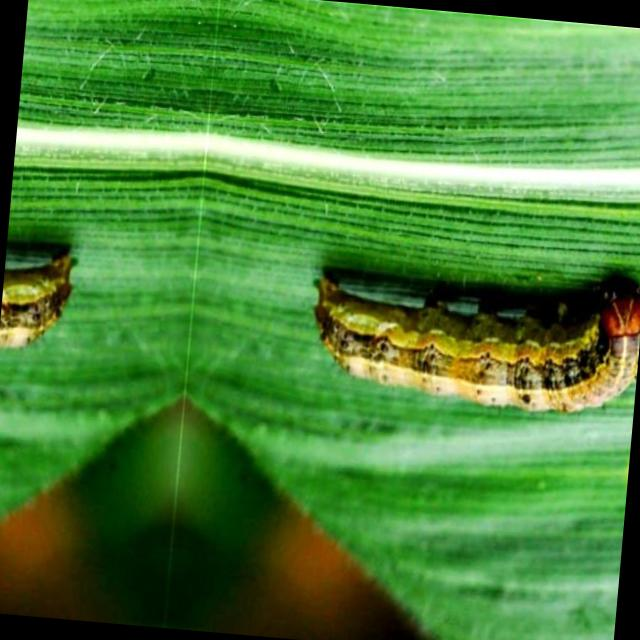Armyworm: (301, 203, 640, 417), (1, 221, 115, 378)
